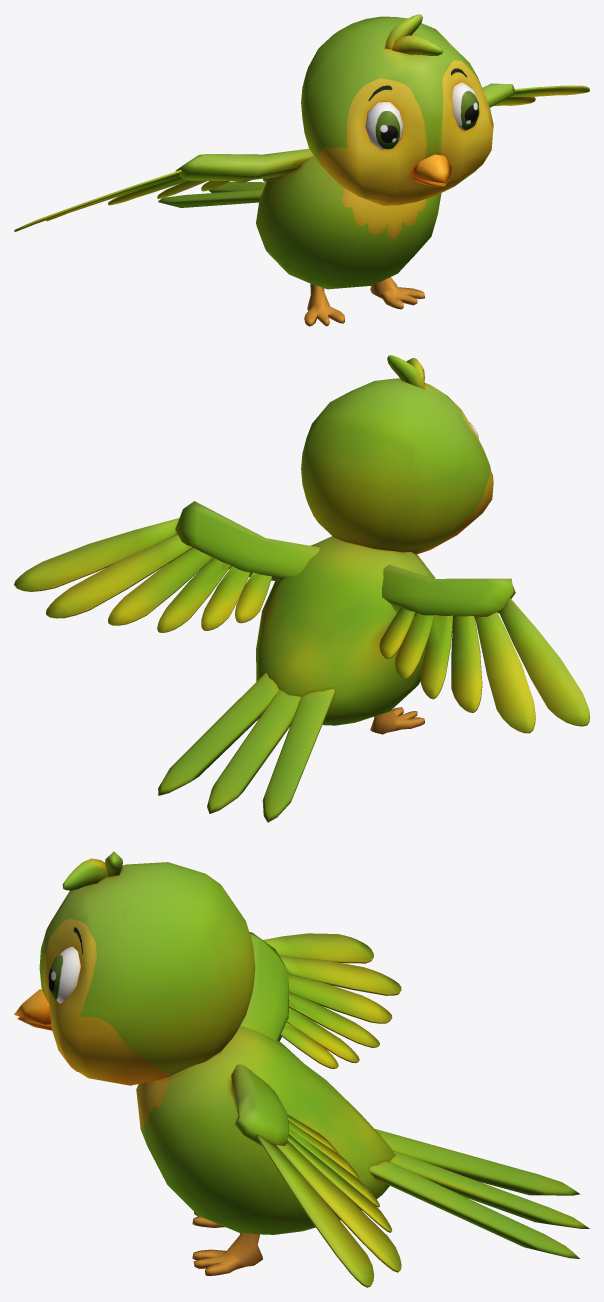
File: birdV5.fbx
3 renders of one model, top to bottom at view 1: azimuth 30°, elevation 25°; view 2: azimuth 150°, elevation 25°; view 3: azimuth 270°, elevation 25°, orthographic. The views are drawn at different scales.
Parts seen in each view (by area): view 1: Bird_v5; view 2: Bird_v5; view 3: Bird_v5.
Boxes of the visible parts, <box> form: Bird_v5: <box>14,14,589,326</box>; Bird_v5: <box>14,355,589,822</box>; Bird_v5: <box>14,851,589,1287</box>.
Size of the model in its own units: 62.9 by 34.1 by 44.98.
